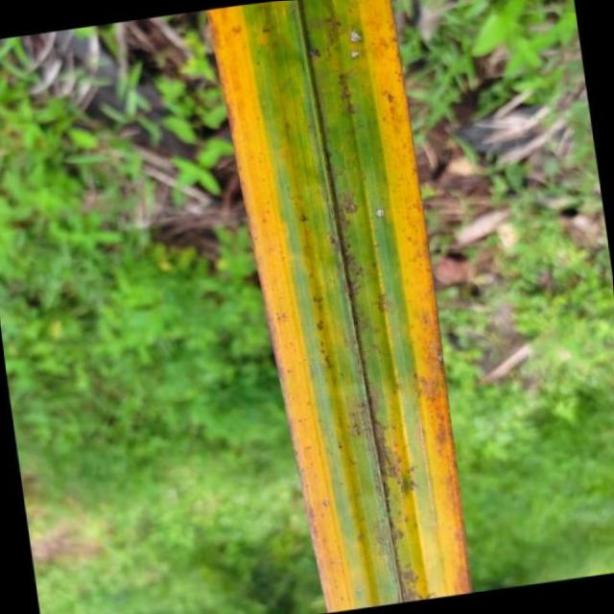Megnesium: (203, 0, 478, 614)
